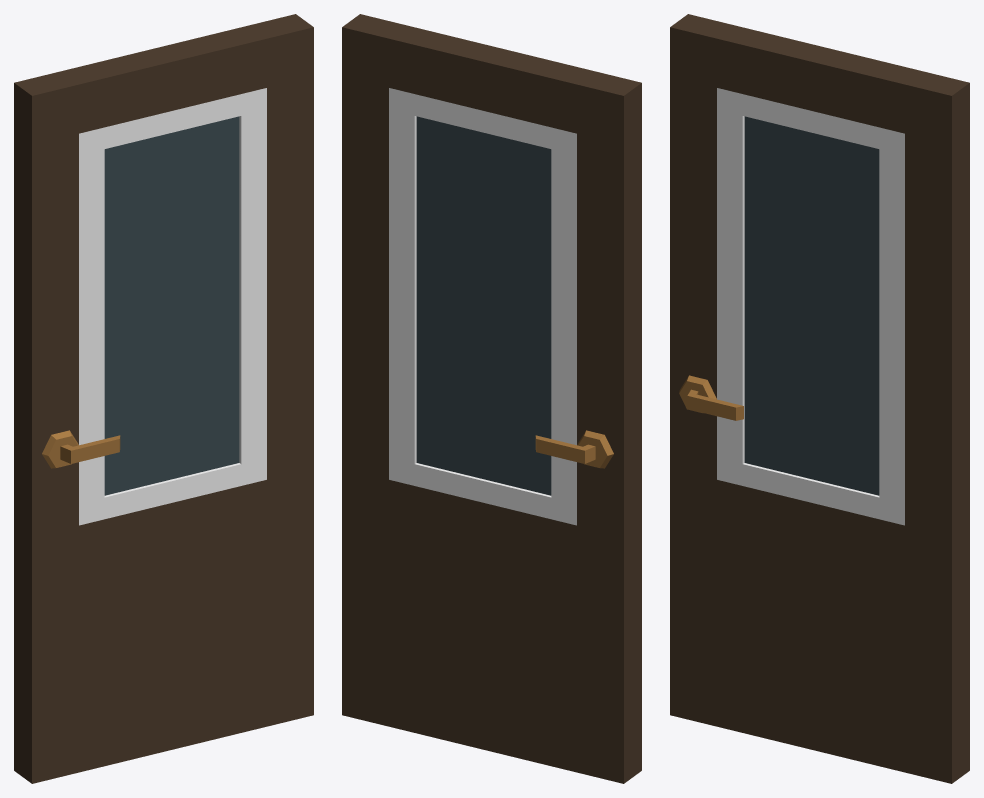
The model's file is buildings_door-house-window.fbx.
3 renders of one model, left to right at view 1: azimuth 30°, elevation 25°; view 2: azimuth 150°, elevation 25°; view 3: azimuth 330°, elevation 25°, orthographic.
Visible parts, largest first — view 1: buildings_door_house_window; view 2: buildings_door_house_window; view 3: buildings_door_house_window.
Boxes of the visible parts, x1,y1,x2,y2 form: buildings_door_house_window: (14, 14, 313, 783); buildings_door_house_window: (342, 14, 641, 783); buildings_door_house_window: (670, 14, 969, 783).
Size of the model in its own units: 81.82 by 191 by 20.
